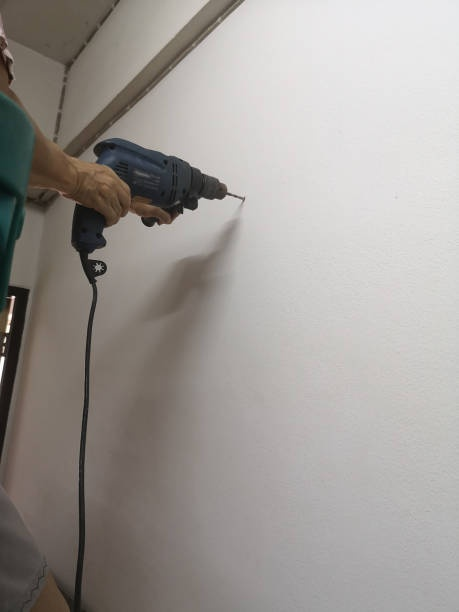driller: (70, 137, 244, 274)
